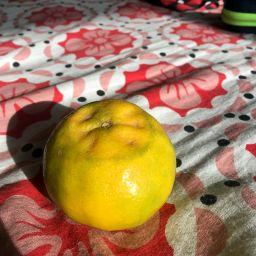Ripe: (44, 100, 173, 231)
